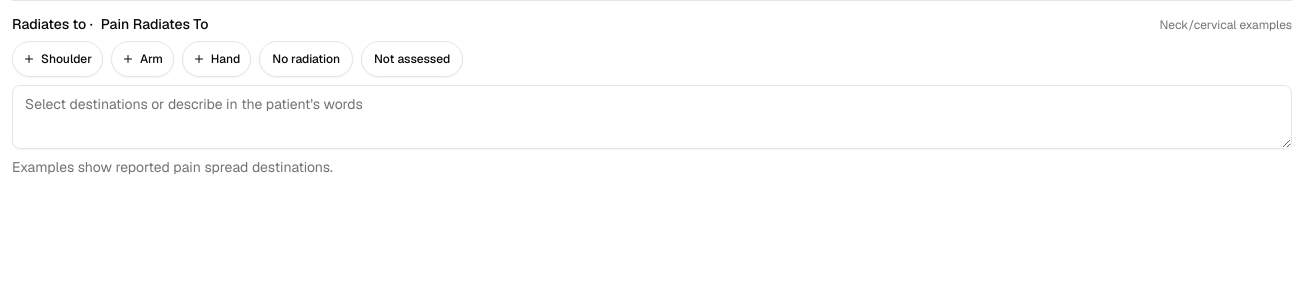
Test: ComplaintRadiationField › adds/removes examples and status buttons correctly
Click the button "Shoulder" at (57, 59), box [12, 41, 103, 77]
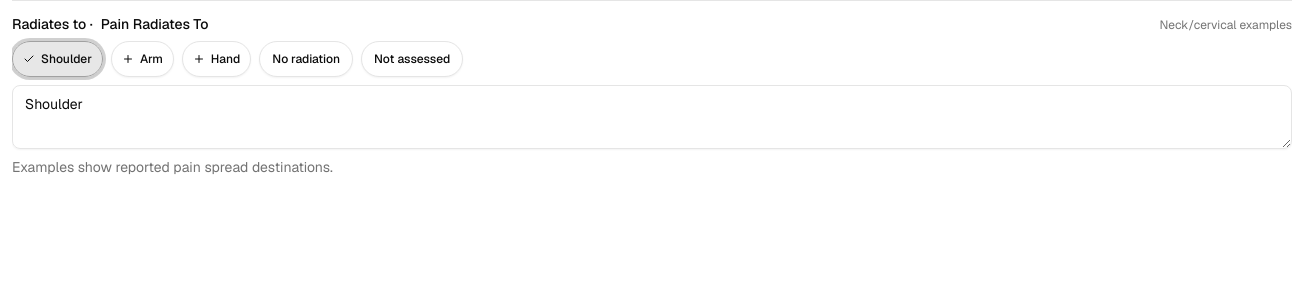
Expected: the text box labelled "Pain Radiates To" holds "Shoulder", [12, 85, 1292, 149]
Click the button "No radiation" at (306, 59), box [259, 41, 353, 77]
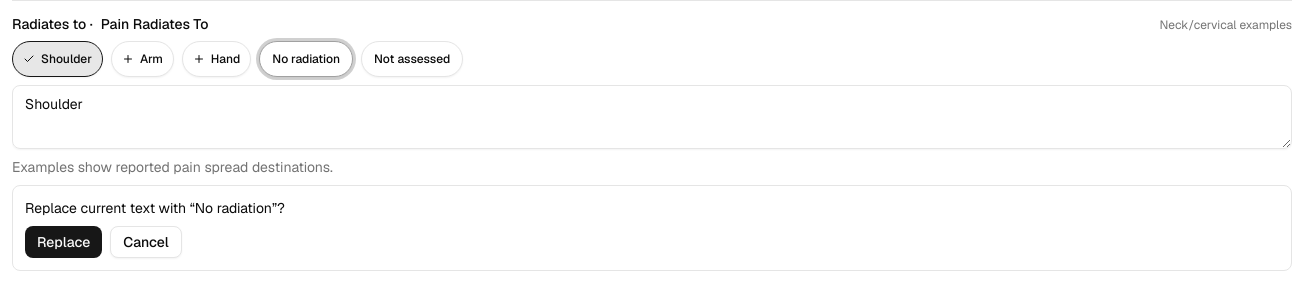
Expected: the button "Replace" is shown, [25, 226, 102, 258]
